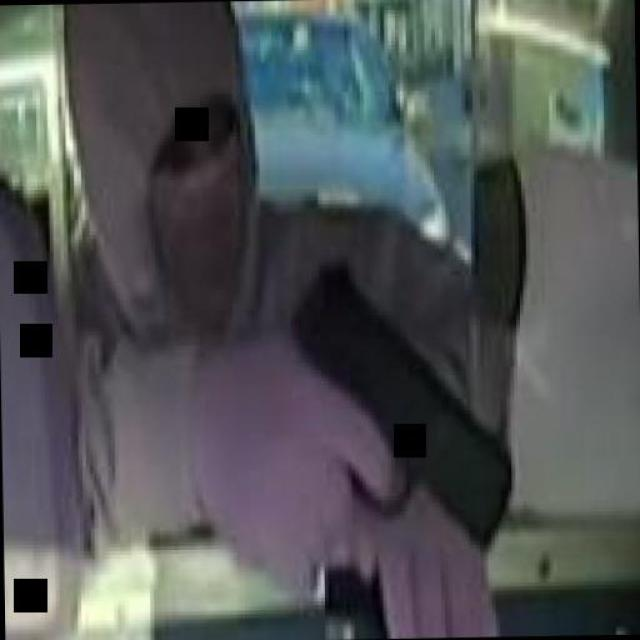gun: (276, 255, 514, 567)
